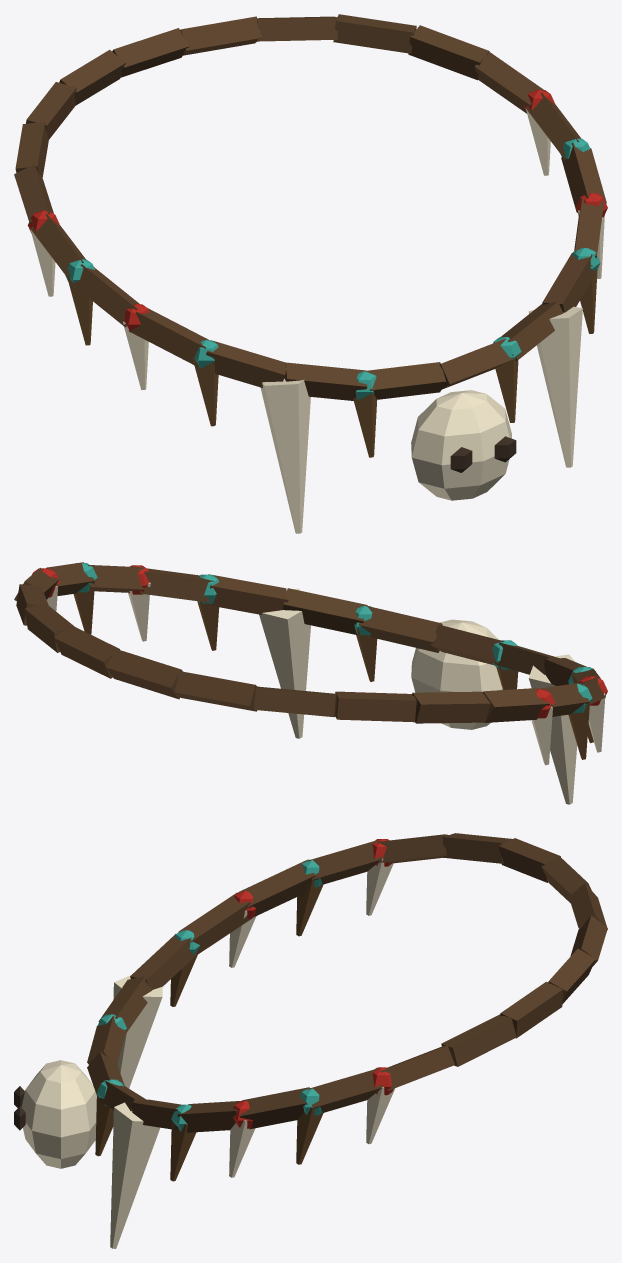
File: dustpaw_chief_trophies.glb
The picture shows the model from 3 angles, top to bottom: view 1: azimuth 30°, elevation 25°; view 2: azimuth 150°, elevation 25°; view 3: azimuth 270°, elevation 25°; orthographic projection. The views are drawn at different scales.
Visible parts, largest first — view 1: dustpaw_chief_trophies; view 2: dustpaw_chief_trophies; view 3: dustpaw_chief_trophies.
Part boxes in pixels (<box>): dustpaw_chief_trophies: <box>14,14,607,533</box>; dustpaw_chief_trophies: <box>14,562,607,804</box>; dustpaw_chief_trophies: <box>14,833,607,1248</box>.
Size of the model in its own units: 0.8359 by 0.4369 by 0.8703.
